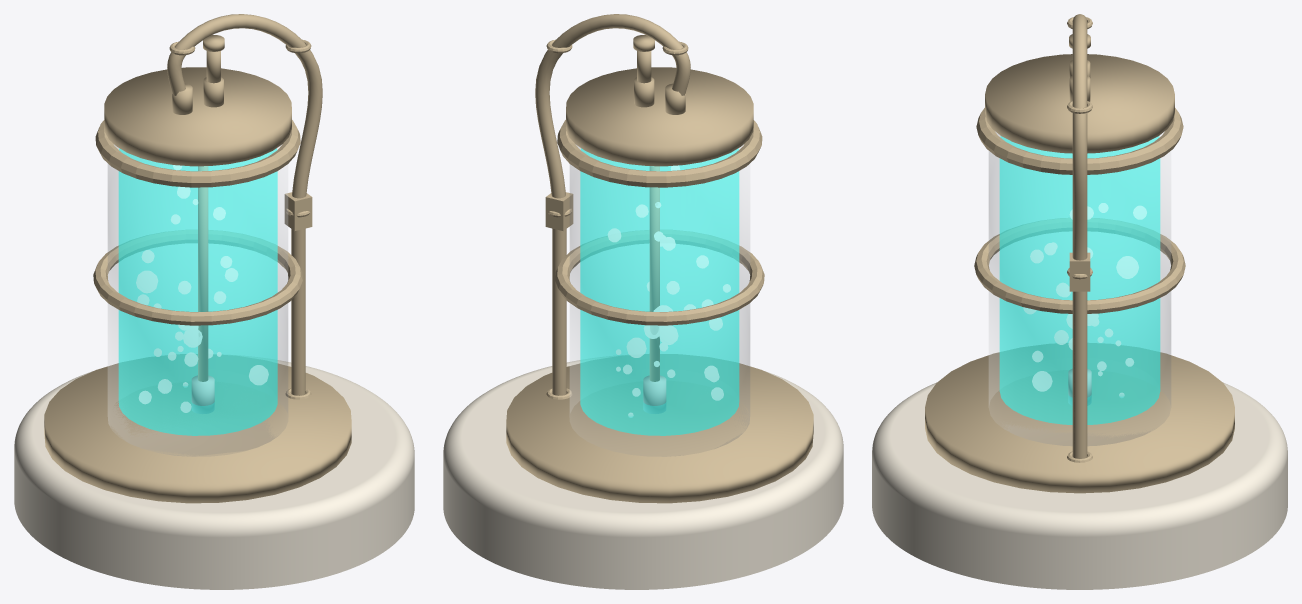
File: bioreactor.glb
3 views of the same model, side by side, from view 1: azimuth 30°, elevation 25°; view 2: azimuth 150°, elevation 25°; view 3: azimuth 270°, elevation 25° (orthographic).
Visible parts, largest first — view 1: Bioreactor_Glass, PEANA_Bioreactor, Bioreactor_Liquid_Obj, Bioreactor_BasePlate, Bioreactor_Lid, Bioreactor_Tube, Bioreactor_RingMid, Bioreactor_RingTop, Bioreactor_CenterTube, Bioreactor_Diffuser, Bioreactor_InletValve, Bioreactor_LidKnob2; view 2: Bioreactor_Glass, PEANA_Bioreactor, Bioreactor_Liquid_Obj, Bioreactor_BasePlate, Bioreactor_Lid, Bioreactor_Tube, Bioreactor_RingMid, Bioreactor_RingTop, Bioreactor_CenterTube, Bioreactor_Diffuser, Bioreactor_InletValve, Bioreactor_LidKnob2; view 3: PEANA_Bioreactor, Bioreactor_Glass, Bioreactor_BasePlate, Bioreactor_Liquid_Obj, Bioreactor_Lid, Bioreactor_Tube, Bioreactor_RingMid, Bioreactor_RingTop.
Part boxes in pixels (box(x1,y1,x2,y2)): Bioreactor_Glass: box(108, 145, 287, 456); PEANA_Bioreactor: box(14, 356, 414, 589); Bioreactor_Liquid_Obj: box(118, 148, 277, 435); Bioreactor_BasePlate: box(44, 354, 351, 503); Bioreactor_Lid: box(104, 67, 291, 166); Bioreactor_Tube: box(167, 14, 322, 395); Bioreactor_RingMid: box(93, 230, 302, 325); Bioreactor_RingTop: box(95, 120, 300, 187); Bioreactor_CenterTube: box(198, 166, 208, 381); Bioreactor_Diffuser: box(191, 375, 214, 413); Bioreactor_InletValve: box(203, 35, 224, 83); Bioreactor_LidKnob2: box(203, 77, 223, 107); Bioreactor_Glass: box(570, 145, 749, 456); PEANA_Bioreactor: box(443, 356, 843, 589); Bioreactor_Liquid_Obj: box(580, 148, 739, 435); Bioreactor_BasePlate: box(506, 354, 813, 503); Bioreactor_Lid: box(566, 67, 753, 166); Bioreactor_Tube: box(535, 14, 690, 395); Bioreactor_RingMid: box(555, 230, 764, 325); Bioreactor_RingTop: box(557, 120, 762, 187); Bioreactor_CenterTube: box(649, 166, 659, 381); Bioreactor_Diffuser: box(643, 375, 666, 413); Bioreactor_InletValve: box(633, 35, 654, 83); Bioreactor_LidKnob2: box(634, 77, 654, 107); PEANA_Bioreactor: box(872, 382, 1287, 589); Bioreactor_Glass: box(989, 132, 1170, 445); Bioreactor_BasePlate: box(925, 343, 1234, 493); Bioreactor_Liquid_Obj: box(999, 136, 1160, 424); Bioreactor_Lid: box(985, 54, 1174, 153); Bioreactor_Tube: box(1069, 14, 1090, 458); Bioreactor_RingMid: box(974, 218, 1185, 313); Bioreactor_RingTop: box(976, 108, 1183, 174).
Size of what is drawn, in the model's own units: 1.07 by 1.44 by 1.11.
